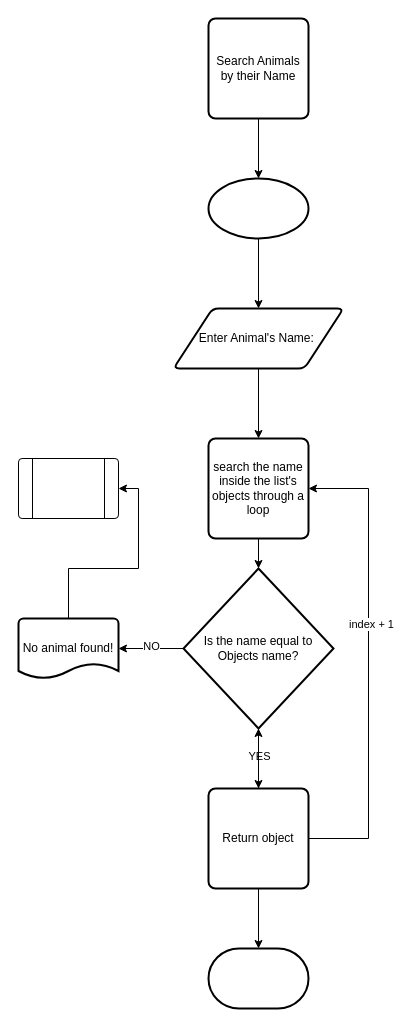
Image size: 410x1026. Some labels were removed from this diagram. The centre of each missing label's shape, as x and y in pixels:
END: the point at 258,978
main: the point at 68,488
START: the point at 258,208
